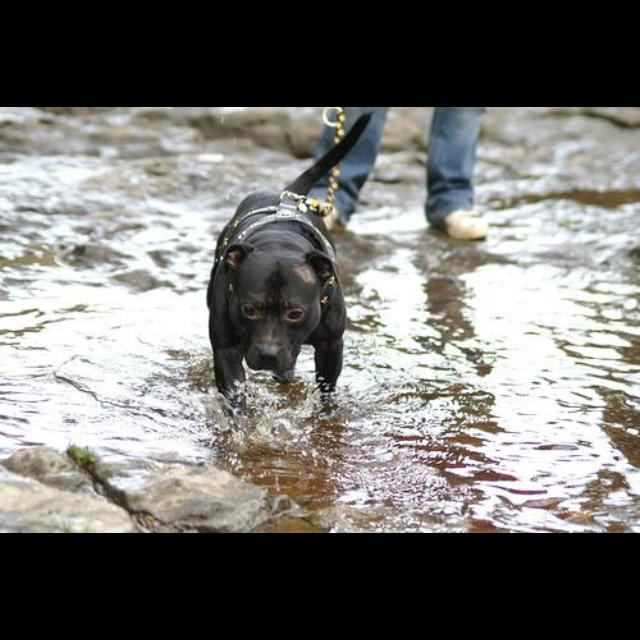staffford: (207, 112, 374, 417)
